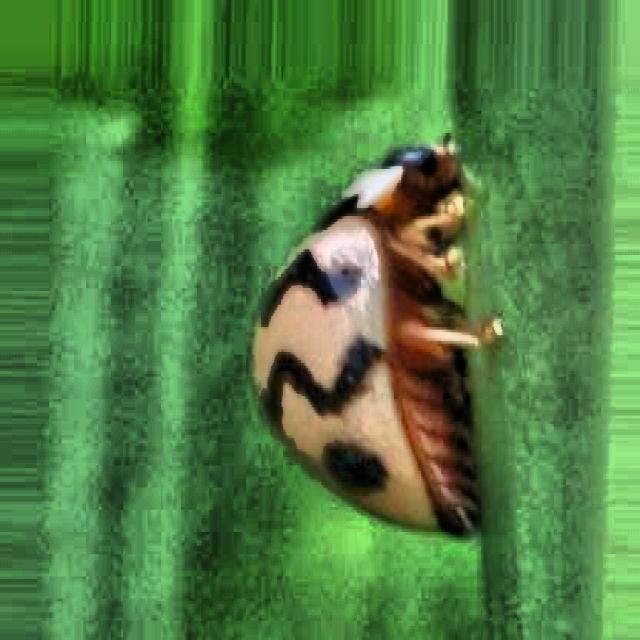Asian-Lady-beetle: (218, 111, 516, 603)
